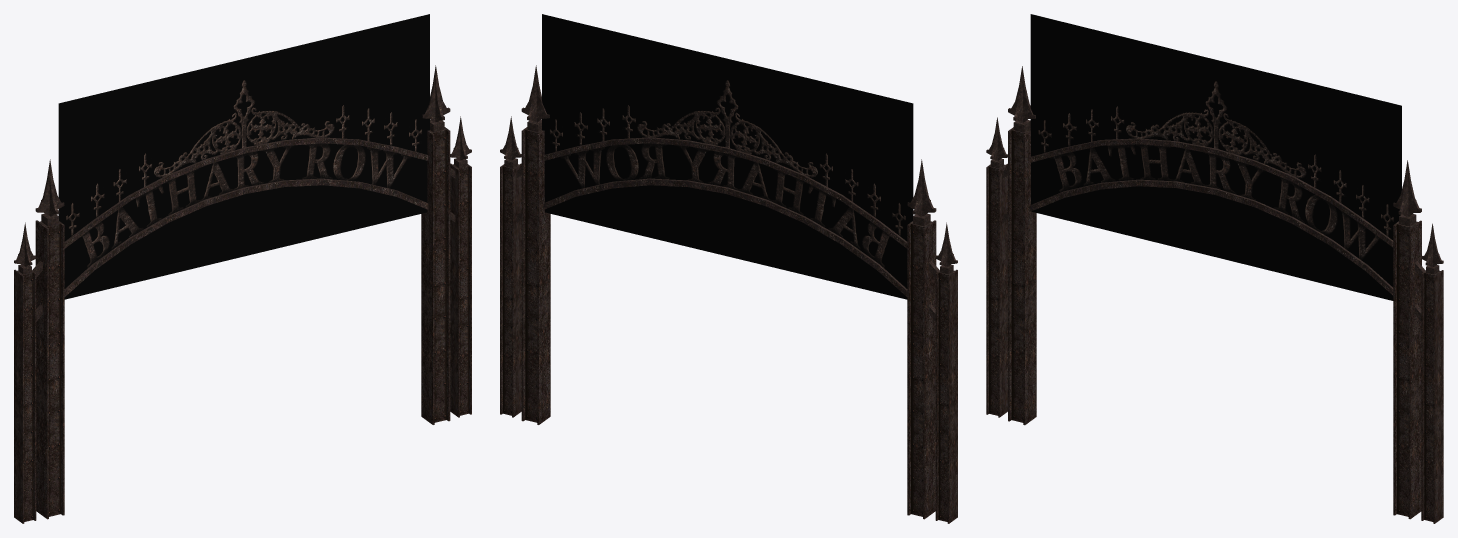
The model's file is ironwork_bathary.fbx.
The picture shows the model from 3 angles, left to right: view 1: azimuth 30°, elevation 25°; view 2: azimuth 150°, elevation 25°; view 3: azimuth 330°, elevation 25°; orthographic projection.
Visible parts, largest first — view 1: mesh_6, mesh_3, mesh_5, mesh_1, mesh_0, mesh_2, mesh_4; view 2: mesh_6, mesh_3, mesh_5, mesh_1, mesh_0, mesh_2, mesh_4; view 3: mesh_6, mesh_5, mesh_3, mesh_1, mesh_0, mesh_4, mesh_2.
Part boxes in pixels (x1,y1,x2,y2): mesh_6: (58,14,429,299); mesh_3: (14,221,64,523); mesh_5: (421,130,471,424); mesh_1: (64,178,428,296); mesh_0: (64,137,428,248); mesh_2: (14,159,64,321); mesh_4: (422,65,471,222); mesh_6: (542,14,913,299); mesh_3: (907,221,957,523); mesh_5: (500,130,550,424); mesh_1: (543,178,907,296); mesh_0: (543,137,907,248); mesh_2: (907,159,957,321); mesh_4: (500,65,549,222); mesh_6: (1030,14,1401,300); mesh_5: (1393,221,1443,523); mesh_3: (986,130,1036,425); mesh_1: (1029,179,1393,295); mesh_0: (1029,138,1393,247); mesh_4: (1393,160,1443,321); mesh_2: (986,66,1035,222).
Bounding box in the file's own units: 1647 × 1404 × 97.87.
3 materials, 3 textured.
